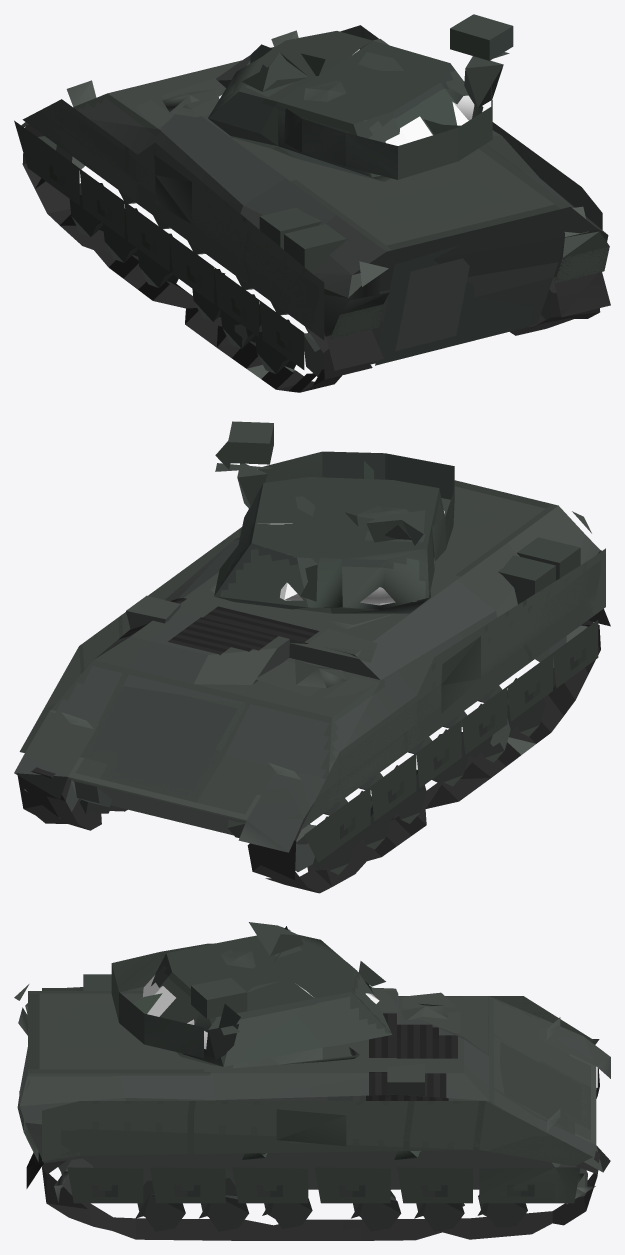
File: SENTINELESCUDODETIENESIEMBRACLONACION.glb
3 views of the same model, one above another, from view 1: azimuth 30°, elevation 25°; view 2: azimuth 150°, elevation 25°; view 3: azimuth 270°, elevation 25° (orthographic). The views are drawn at different scales.
Visible parts, largest first — view 1: cuboid_48, cuboid_88, cuboid_222, cylinder_24, cuboid_77, cuboid_187, cuboid_188, cuboid_195, cuboid_221, cuboid_225, cuboid_103, cuboid_258 (+26 smaller); view 2: cuboid_48, cuboid_88, cuboid_222, cuboid_49, cylinder_24, cuboid_77, cuboid_221, cylinder_0, cuboid_225, cuboid_103, cuboid_236, cuboid_226 (+19 smaller); view 3: cuboid_48, cuboid_221, cuboid_88, cylinder_0, cuboid_49, cuboid_77, cuboid_224, cuboid_232, cuboid_234, cuboid_231, cuboid_233, cuboid_223 (+21 smaller).
Part boxes in pixels (x1,y1,x2,y2): cuboid_48: [21, 46, 610, 370]; cuboid_88: [208, 31, 483, 181]; cuboid_222: [22, 99, 324, 340]; cylinder_24: [22, 124, 372, 392]; cuboid_77: [284, 80, 492, 179]; cuboid_187: [375, 245, 533, 365]; cuboid_188: [395, 258, 469, 351]; cuboid_195: [373, 178, 504, 225]; cuboid_221: [340, 25, 602, 229]; cuboid_225: [14, 120, 79, 205]; cuboid_103: [450, 14, 513, 60]; cuboid_258: [555, 231, 609, 283]; cuboid_48: [14, 480, 610, 852]; cuboid_88: [214, 477, 444, 613]; cuboid_222: [300, 548, 605, 830]; cuboid_49: [85, 685, 246, 797]; cylinder_24: [247, 620, 600, 893]; cuboid_77: [258, 451, 454, 560]; cuboid_221: [19, 527, 241, 752]; cylinder_0: [17, 767, 127, 830]; cuboid_225: [304, 786, 370, 862]; cuboid_103: [228, 421, 273, 464]; cuboid_236: [441, 636, 480, 713]; cuboid_226: [370, 753, 416, 821]; cuboid_48: [19, 991, 610, 1189]; cuboid_221: [42, 1101, 592, 1166]; cuboid_88: [151, 935, 391, 1066]; cylinder_0: [42, 1151, 600, 1240]; cuboid_49: [495, 1036, 586, 1129]; cuboid_77: [111, 943, 214, 1058]; cuboid_224: [479, 1167, 580, 1203]; cuboid_232: [232, 1167, 308, 1203]; cuboid_234: [67, 1167, 143, 1203]; cuboid_231: [314, 1167, 390, 1203]; cuboid_233: [150, 1167, 225, 1203]; cuboid_223: [397, 1167, 472, 1203].
Size of the model in its own units: 3.04 by 2.69 by 5.89.
7 materials, 6 textured.
